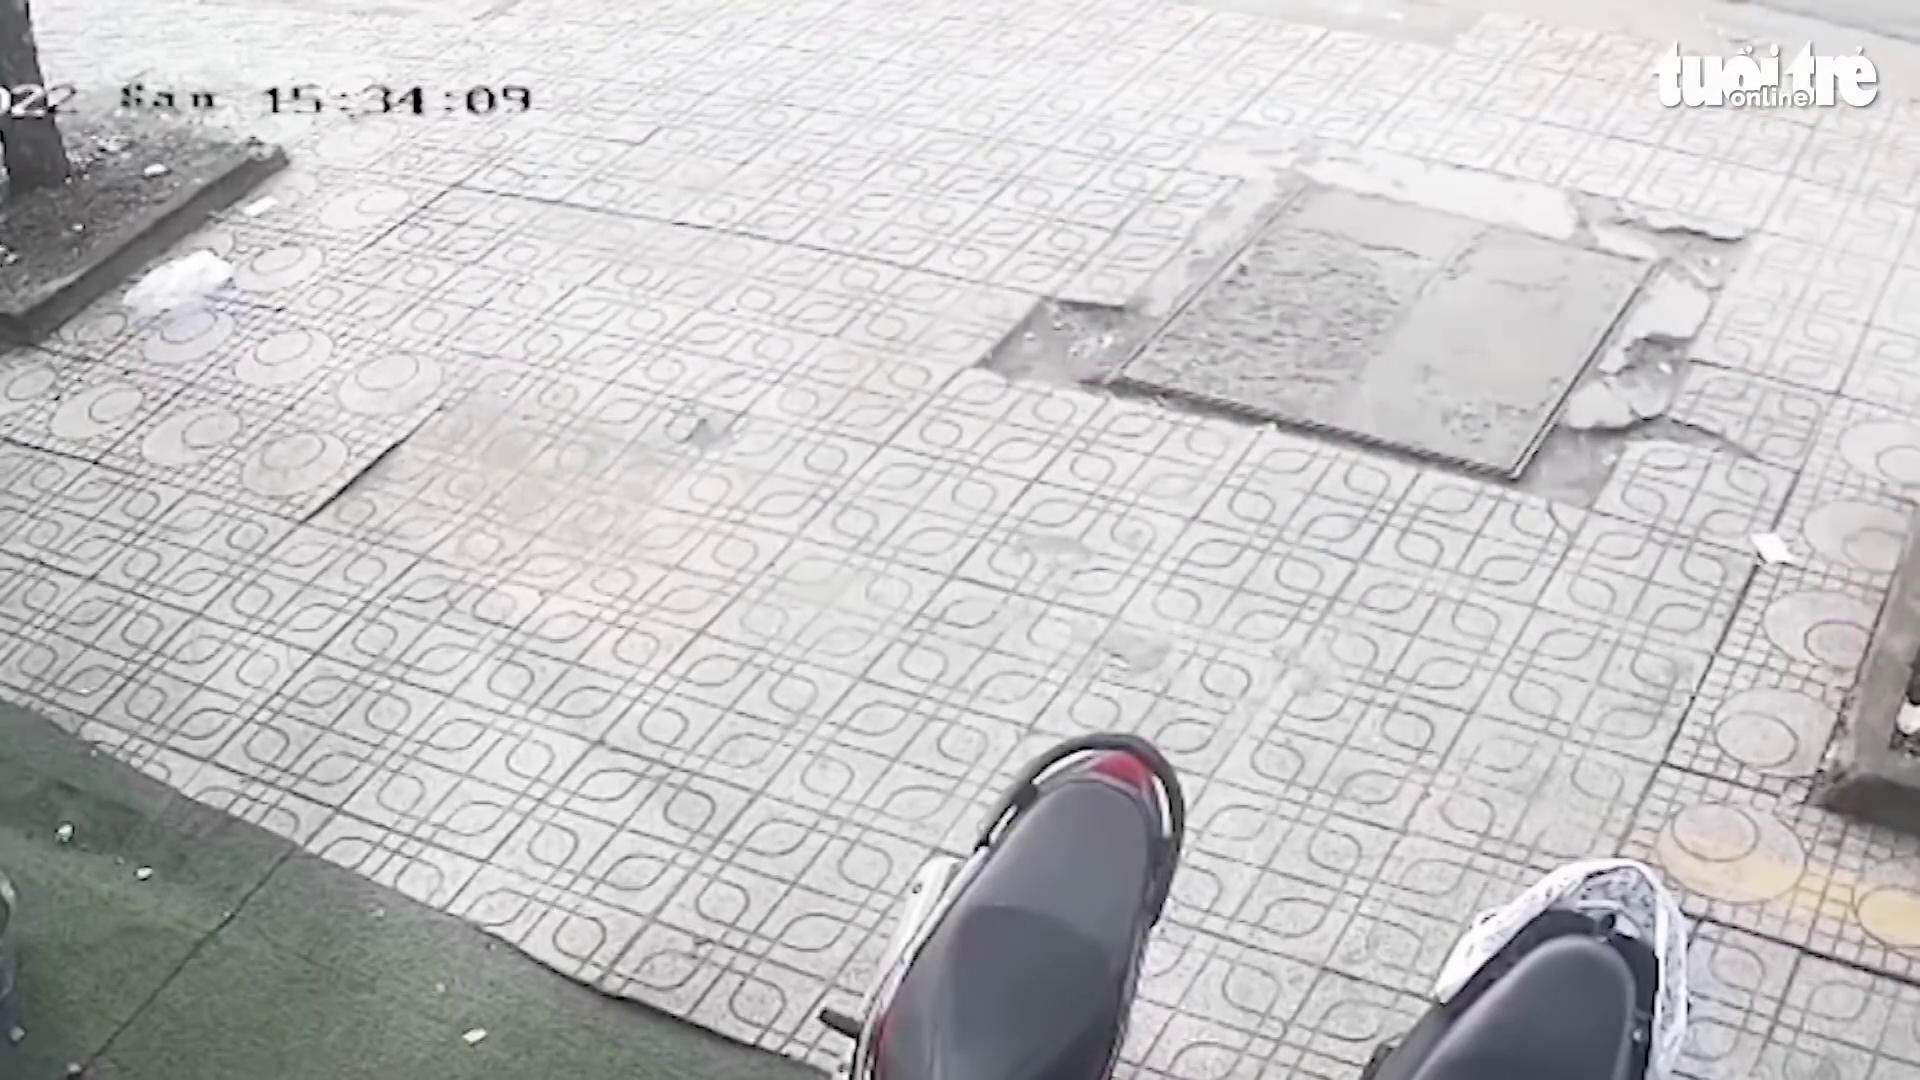Motorcycle: (820, 732, 1691, 1071)
